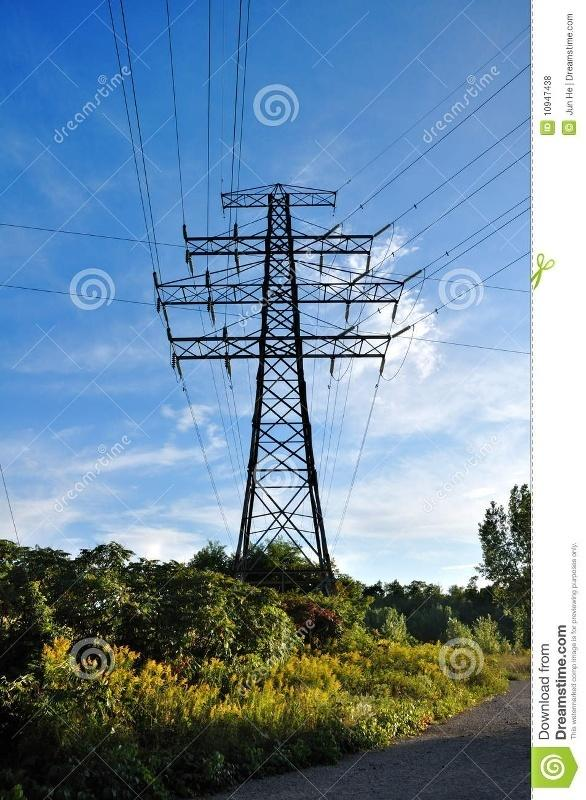power_tower: (153, 178, 410, 588)
